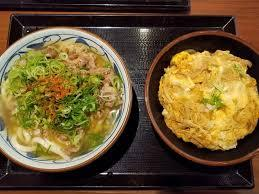niku: (1, 25, 138, 174)
